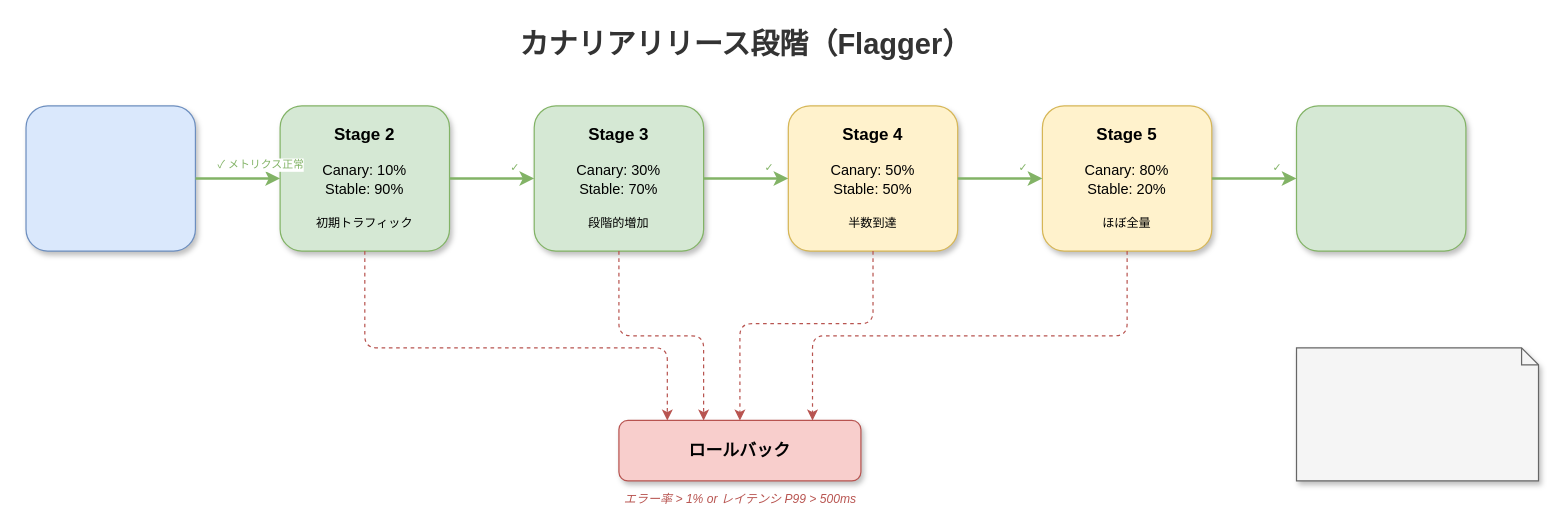
Image size: 1567x531. Some labels were removed from this diagram. The centre of each missing label's shape, as x and y in pixels:
Stage 1 Canary: 0% Stable: 100% デプロイ開始: the point at 111,180
Stage 6 Canary: 100% Stable: 0% 完全切替 Promote: the point at 1381,180
判定メトリクス: リクエスト成功率 > 99% レイテンシ P99 < 500ms 判定間隔: 60秒: the point at 1418,415
